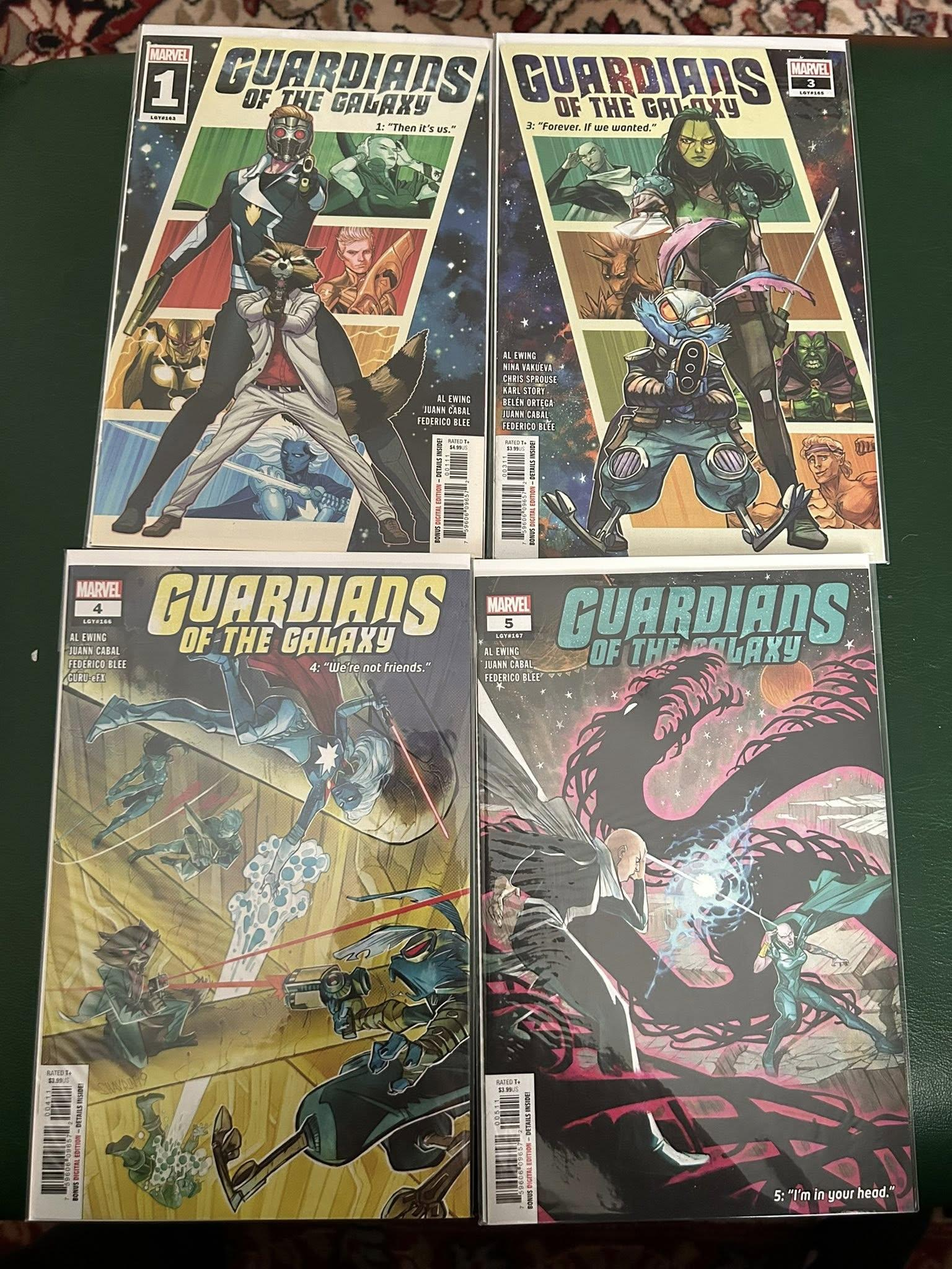comic: (470, 553, 916, 1223), (30, 551, 475, 1222), (87, 24, 498, 558), (493, 35, 887, 560)
